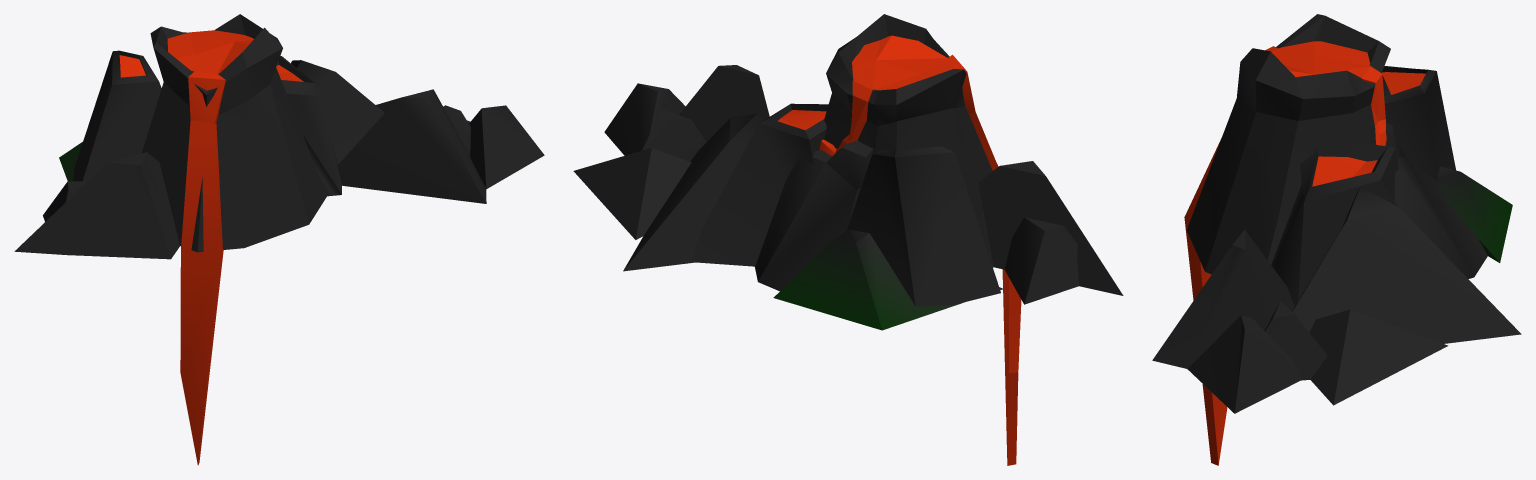
The model's file is c_volcano.fbx.
3 views of the same model, side by side, from view 1: azimuth 30°, elevation 25°; view 2: azimuth 150°, elevation 25°; view 3: azimuth 270°, elevation 25° (orthographic). The views are drawn at different scales.
Visible parts, largest first — view 1: c_volcano; view 2: c_volcano; view 3: c_volcano.
Boxes of the visible parts, <box> form: c_volcano: <box>14,14,544,465</box>; c_volcano: <box>573,14,1123,465</box>; c_volcano: <box>1152,14,1521,465</box>.
Bounding box in the file's own units: 300 × 229 × 165.
